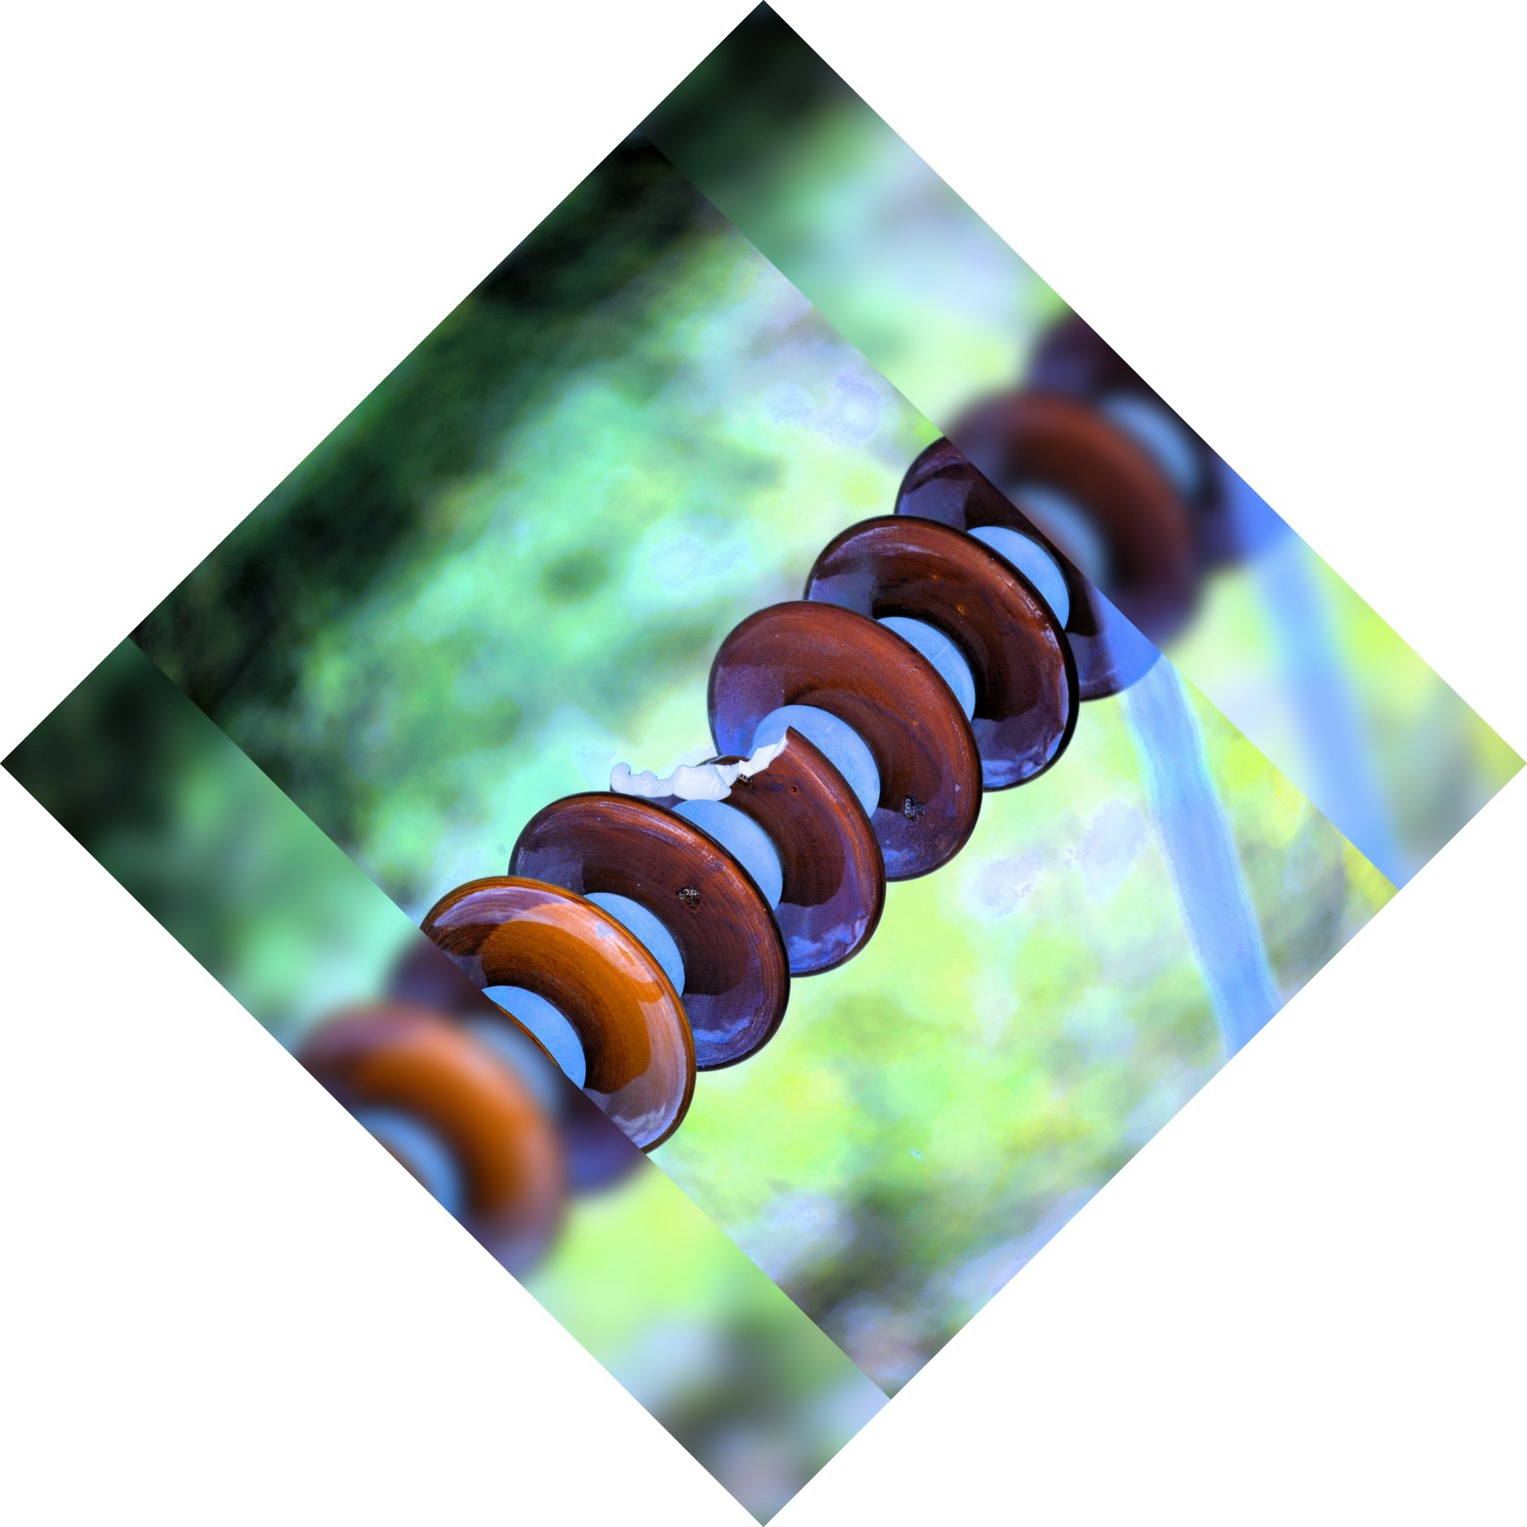insulator breakage: (596, 724, 895, 984)
